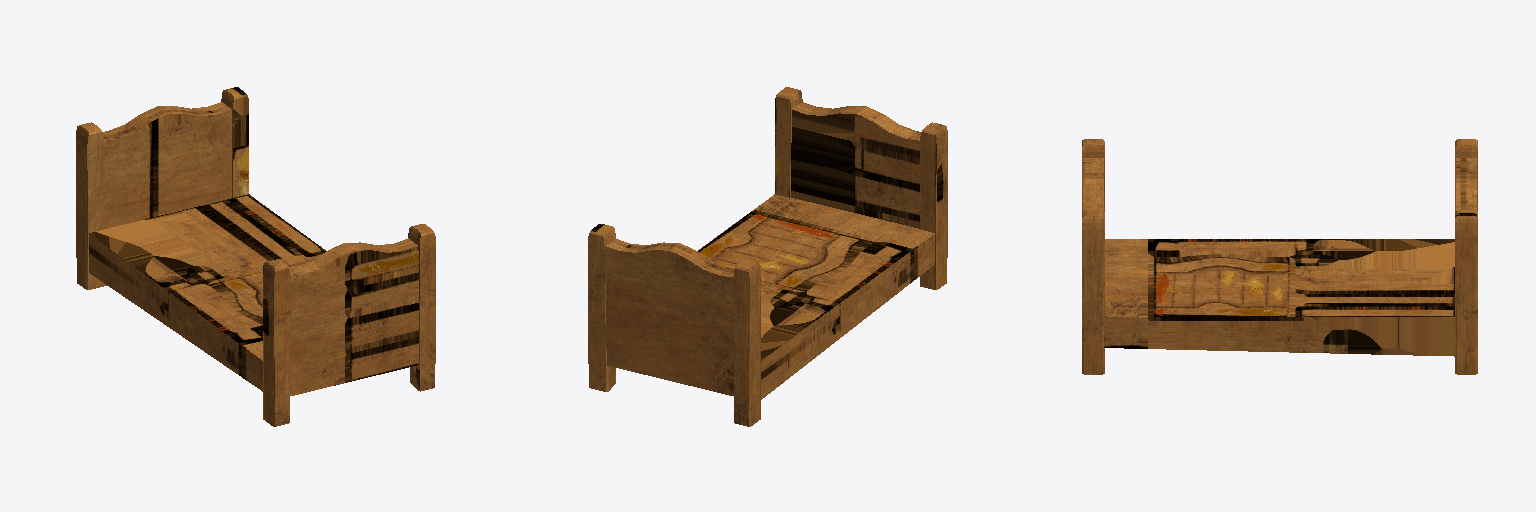
3 views of the same model, side by side, from view 1: azimuth 30°, elevation 25°; view 2: azimuth 150°, elevation 25°; view 3: azimuth 270°, elevation 25° (orthographic).
Parts seen in each view (by area): view 1: Cube.034_Cube.035; view 2: Cube.034_Cube.035; view 3: Cube.034_Cube.035.
Part boxes in pixels (left/top/right/bottom): Cube.034_Cube.035: left=76, top=87, right=435, bottom=426; Cube.034_Cube.035: left=588, top=87, right=947, bottom=426; Cube.034_Cube.035: left=1082, top=139, right=1477, bottom=374.
Size of the model in its own units: 1 by 0.9306 by 2.12.
Materials: 1 (1 with a texture image).